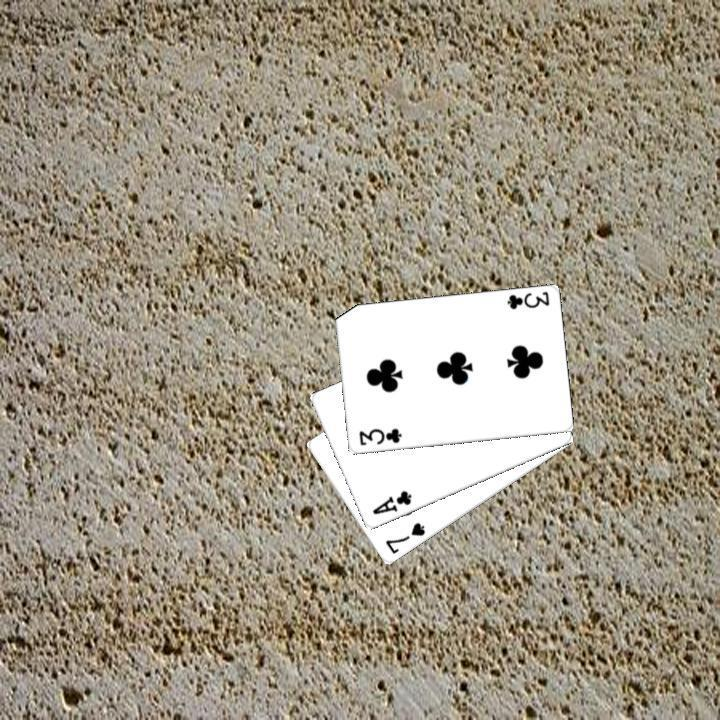3: (354, 424, 403, 448), (502, 287, 551, 311)
7: (381, 518, 427, 557)
A: (368, 486, 413, 517)
